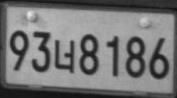1: (103, 35, 124, 77)
3: (31, 30, 51, 72)
6: (148, 36, 170, 80)
8: (124, 35, 146, 78), (78, 33, 100, 75)
9: (8, 29, 30, 71)
너: (53, 38, 76, 74)
